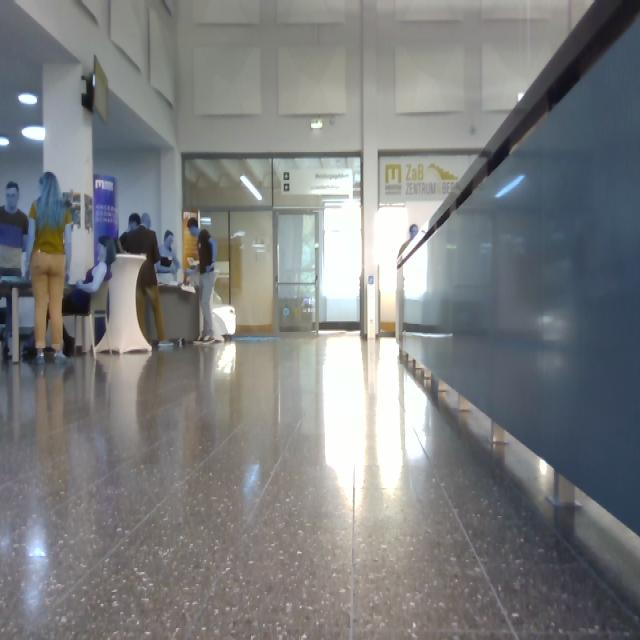banner: (94, 174, 119, 260)
chair: (74, 282, 108, 353)
door: (321, 201, 362, 330), (231, 212, 273, 334), (279, 213, 317, 330)
light bulb: (496, 174, 525, 198), (240, 174, 262, 201), (22, 126, 45, 141), (19, 93, 38, 105), (311, 118, 322, 129), (1, 137, 10, 146)
miscellaneous: (398, 1, 640, 537)
person: (29, 173, 73, 357), (120, 214, 165, 348), (188, 218, 220, 342), (64, 237, 116, 313), (1, 182, 29, 281), (157, 230, 180, 282), (1, 289, 12, 358), (399, 225, 418, 258)
pillar: (44, 65, 94, 284)
table: (96, 254, 151, 353)
tiled floor: (1, 337, 640, 640)
